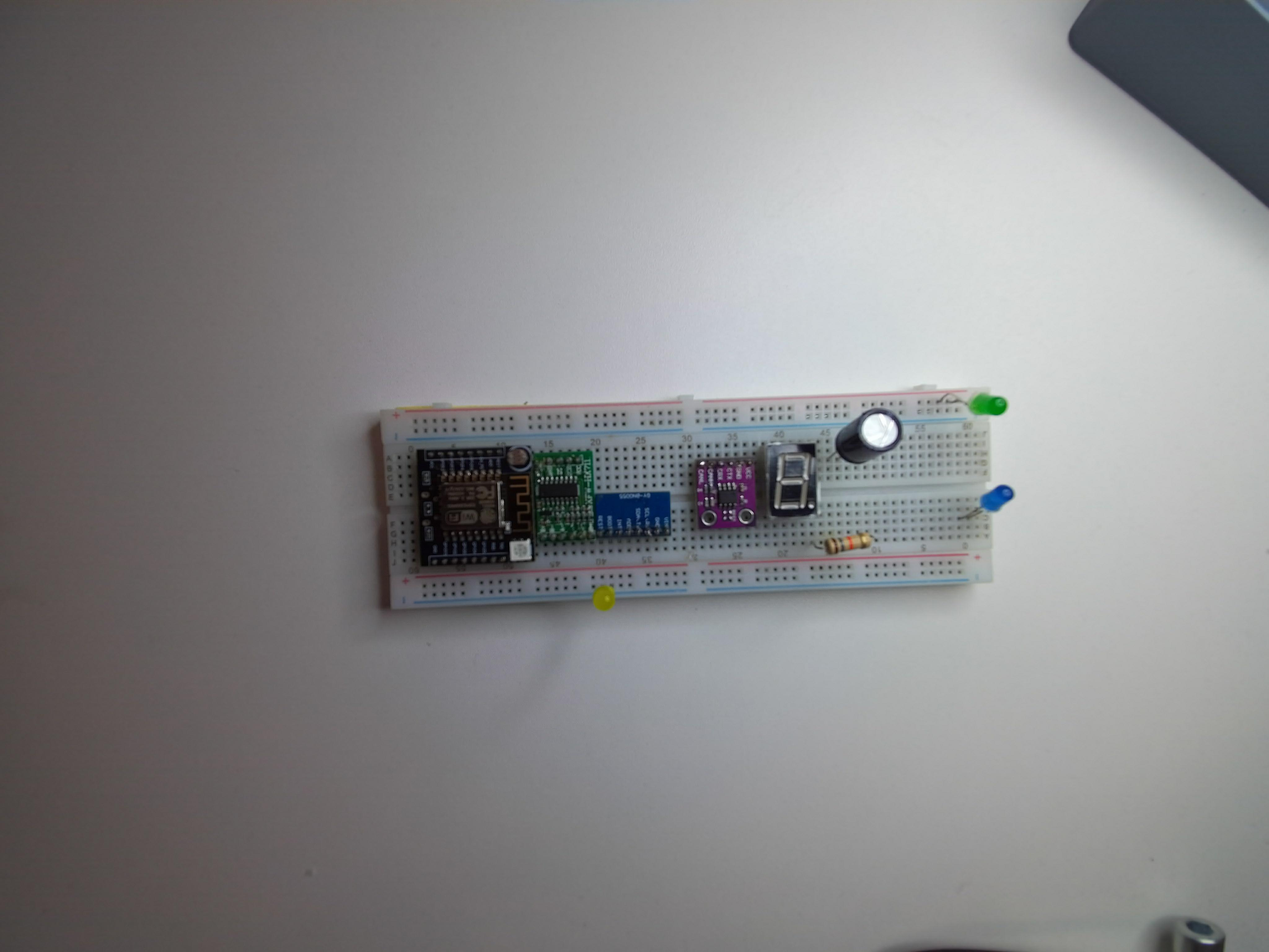base: (362, 386, 1014, 614)
blue-board: (595, 490, 672, 539)
blue-led: (976, 478, 1014, 516)
capacitor: (833, 409, 902, 470)
digit-board: (765, 439, 820, 518)
esp: (412, 448, 535, 570)
green-board: (532, 449, 598, 547)
green-led: (967, 386, 1011, 421)
purple-board: (689, 453, 764, 530)
resistor-big: (824, 530, 874, 555)
yellow-led: (587, 578, 619, 610)
